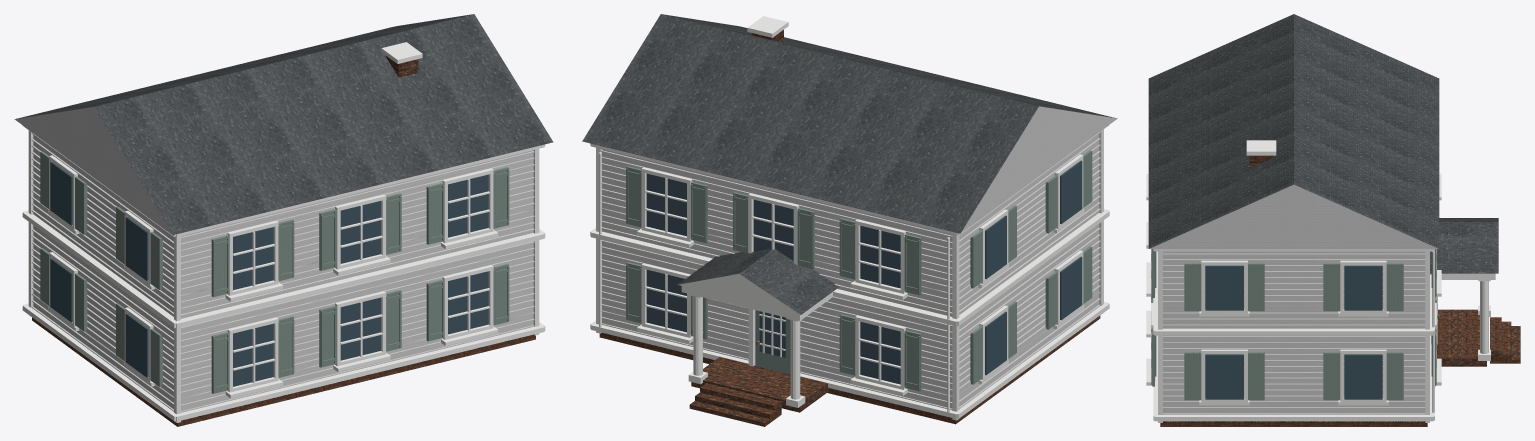
The model's file is building-type-b.glb.
The picture shows the model from 3 angles, left to right: view 1: azimuth 30°, elevation 25°; view 2: azimuth 150°, elevation 25°; view 3: azimuth 270°, elevation 25°; orthographic projection. The views are drawn at different scales.
Parts seen in each view (by area): view 1: colonial house b; view 2: colonial house b; view 3: colonial house b.
Boxes of the visible parts, x1,y1,x2,y2 form: colonial house b: (14, 14, 553, 426); colonial house b: (582, 14, 1117, 426); colonial house b: (1146, 14, 1520, 426).
Size of the model in its own units: 13.6 by 9.2 by 12.62.
Materials: 7 (4 with a texture image).
